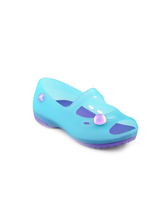shoes: (31, 77, 140, 147)
